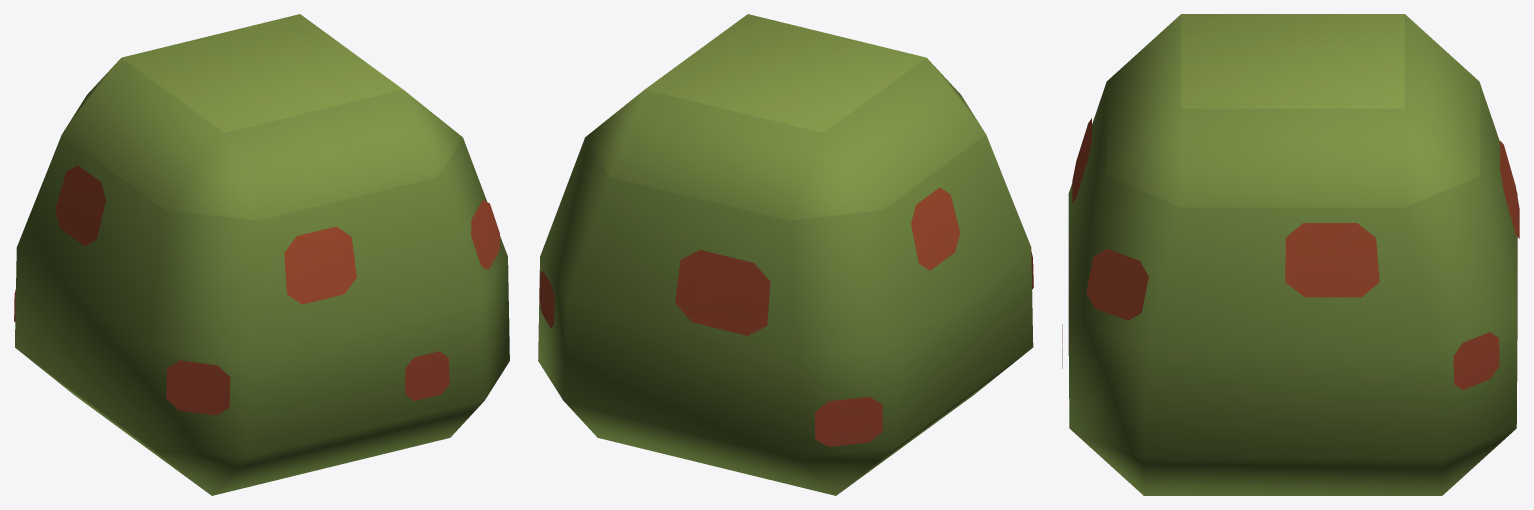
The model's file is hedge_small_x1.fbx.
3 renders of one model, left to right at view 1: azimuth 30°, elevation 25°; view 2: azimuth 150°, elevation 25°; view 3: azimuth 270°, elevation 25°, orthographic. The views are drawn at different scales.
Visible parts, largest first — view 1: hedge_small_x1; view 2: hedge_small_x1; view 3: hedge_small_x1.
Part boxes in pixels (x1=…): hedge_small_x1: x1=14, y1=14, x2=509, y2=495; hedge_small_x1: x1=538, y1=14, x2=1033, y2=495; hedge_small_x1: x1=1062, y1=14, x2=1519, y2=495.
Size of the model in its own units: 120 by 110 by 123.
